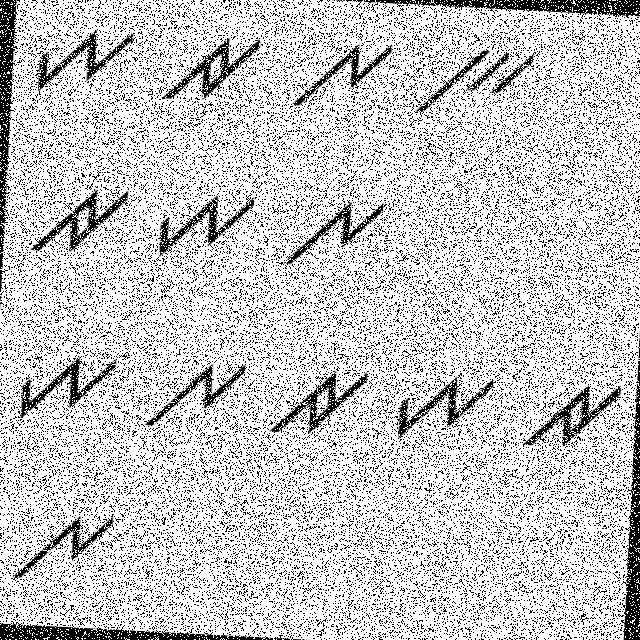la: (278, 176, 389, 280), (286, 24, 396, 118), (142, 343, 251, 436), (11, 498, 120, 588)
ra: (264, 355, 378, 452), (160, 15, 266, 110), (23, 177, 132, 269), (520, 374, 624, 459)
ya: (26, 12, 142, 109), (389, 359, 506, 450), (12, 337, 126, 427), (144, 184, 264, 260)
